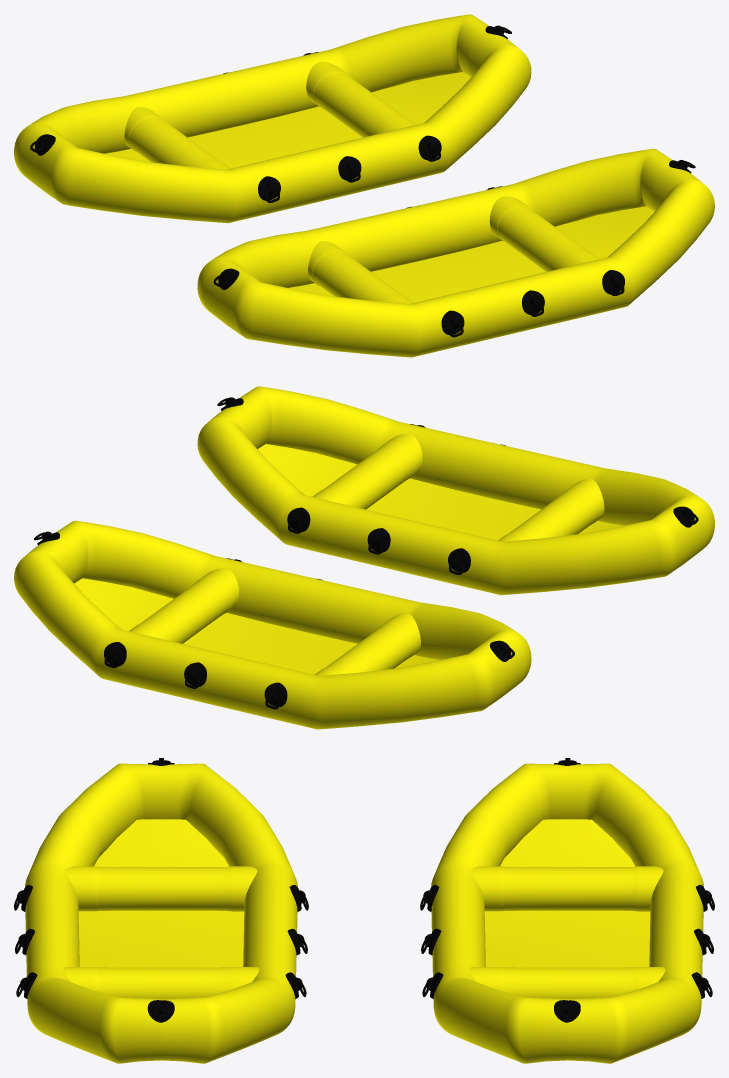
File: InflatableRaft.fbx
3 renders of one model, top to bottom at view 1: azimuth 30°, elevation 25°; view 2: azimuth 150°, elevation 25°; view 3: azimuth 270°, elevation 25°, orthographic. The views are drawn at different scales.
Visible parts, largest first — view 1: RubberBoatNew, RubberBoatOld; view 2: RubberBoatOld, RubberBoatNew; view 3: RubberBoatOld, RubberBoatNew.
Part boxes in pixels (x1,y1,x2,y2): RubberBoatNew: [197, 148, 714, 357]; RubberBoatOld: [14, 14, 531, 223]; RubberBoatOld: [14, 520, 531, 729]; RubberBoatNew: [197, 386, 714, 595]; RubberBoatOld: [420, 758, 714, 1063]; RubberBoatNew: [14, 758, 308, 1063].
Bounding box in the file's own units: 375 × 62.91 × 432.
